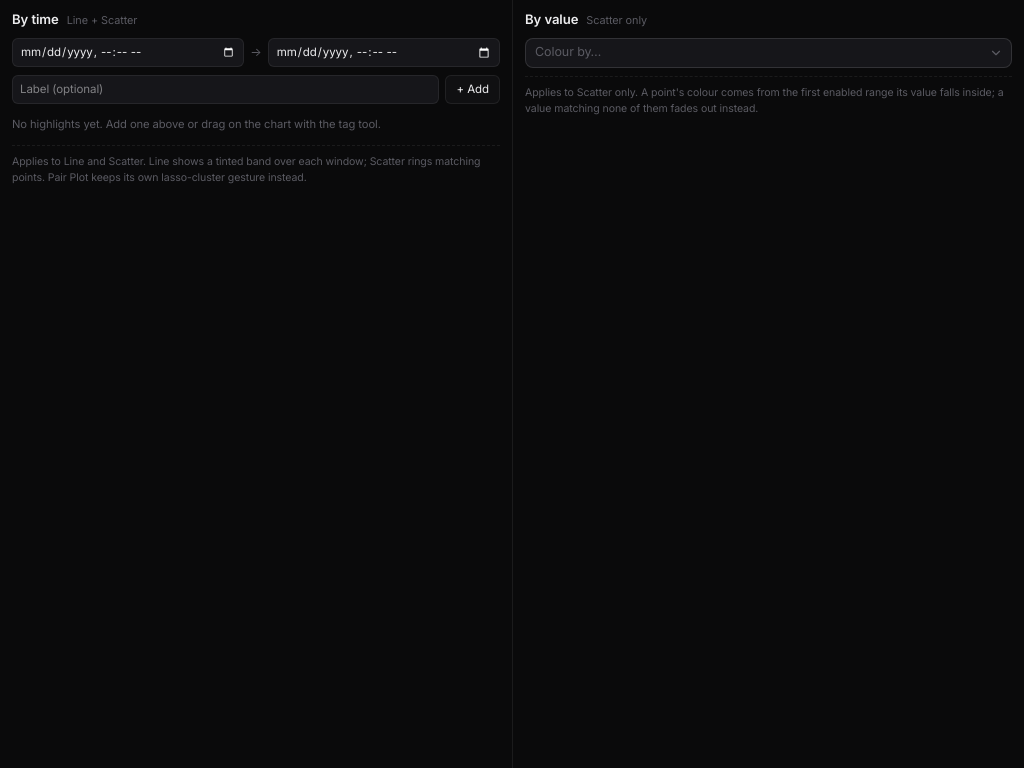
Scenario: HighlightsPanel › By time (highlights) › rejects a missing start or end with an inline error
Click the button "+ Add": click(473, 90) x1=446 y1=75 x2=500 y2=104
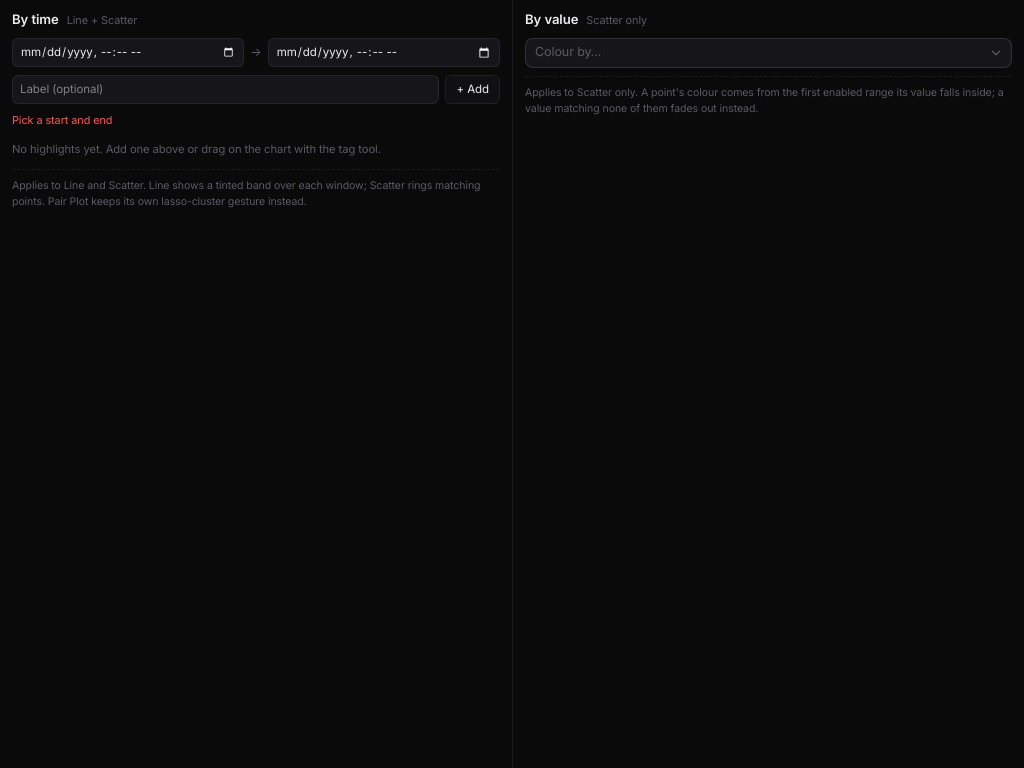
Now the text "Pick a start and end" is shown, box x1=12 y1=113 x2=112 y2=127
